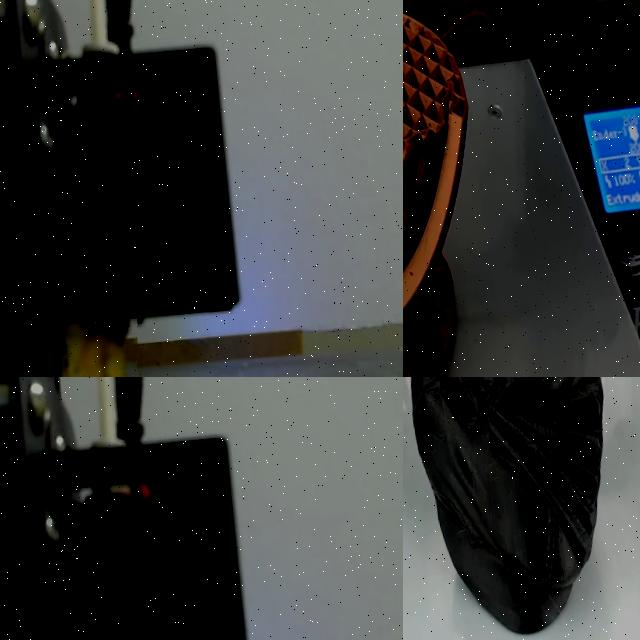spaghetti: (49, 316, 147, 377)
